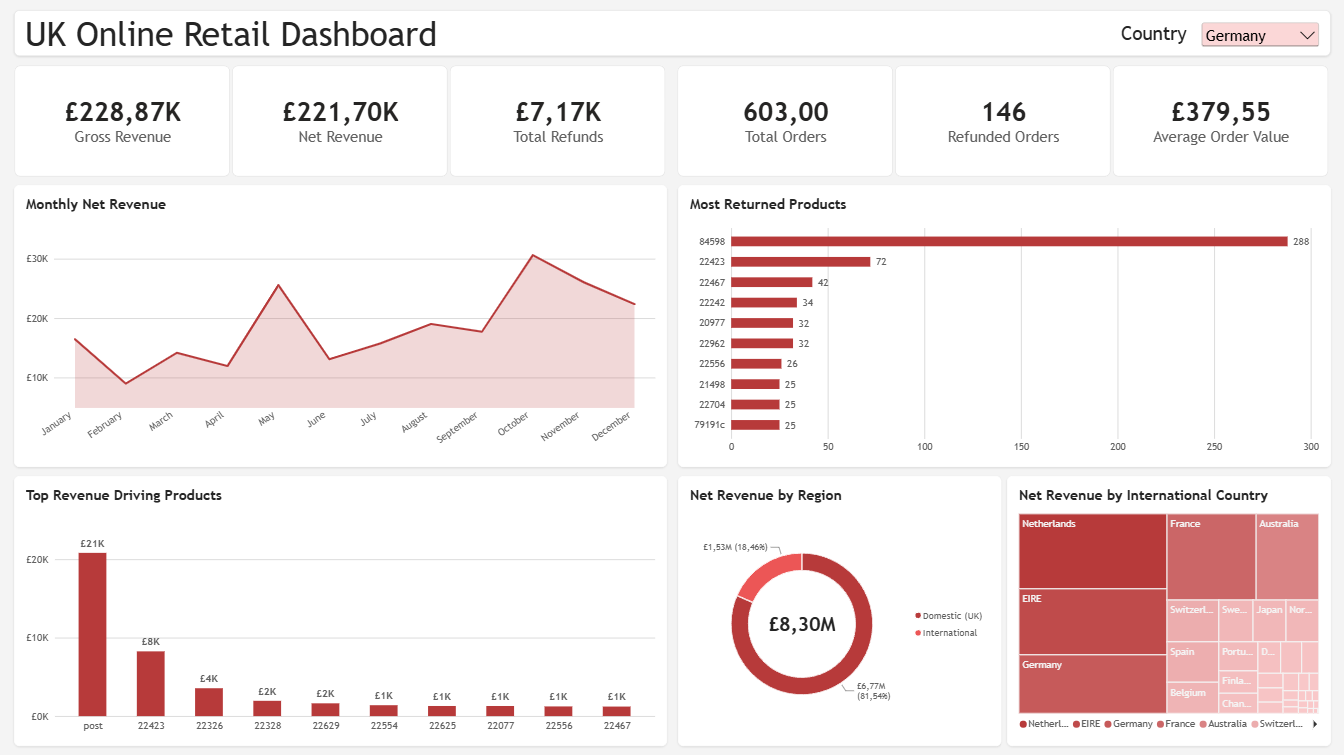

Layout of this report page (visuals, bound fields, positions):
{"tool":"powerbi","page":{"name":"Page 1","canvas":[1920,1080],"ordinal":0},"visuals":[{"type":"textbox","box":[20.4,16,1880.6,65.7],"z":0},{"type":"slicer","fields":{"Values":["Dim_Customer.Country"]},"box":[1711.8,27.9,178.2,53.2],"z":1000},{"type":"textbox","box":[1530.9,27.9,163.6,53.2],"z":2000},{"type":"cardVisual","fields":{"Data":["_Measures.Gross Revenue","_Measures.Net Revenue","_Measures.Total Refunds"]},"box":[20,94.2,932.5,160.8],"z":3000},{"type":"lineChart","title":"Monthly Net Revenue","fields":{"Category":["Fact_Sales.InvoiceDate.Variation.Date Hierarchy.Month","Fact_Sales.InvoiceDate.Variation.Date Hierarchy.Day"],"Y":["Sum(Fact_Sales.Total)"]},"box":[20,265,932.5,402.5],"z":4000},{"type":"columnChart","title":"Top Revenue Driving Products","fields":{"Category":["Dim_Product.StockCode"],"Y":["Sum(Fact_Sales.Total)"]},"box":[20,681,933,386],"z":5000},{"type":"cardVisual","fields":{"Data":["Count(Fact_Sales.InvoiceNo)","_Measures.Refunded Orders","_Measures.Average Order Value"]},"box":[967.5,94.2,933.3,160.8],"z":6000},{"type":"clusteredBarChart","title":"Most Returned Products","fields":{"Category":["Dim_Product.StockCode"],"Y":["_Measures.Returned Products"]},"box":[968,265,933,403],"z":7000},{"type":"donutChart","title":"Net Revenue by Region","fields":{"Category":["Dim_Customer.Market Region"],"Y":["_Measures.Net Revenue"]},"box":[968.5,681,462,385.5],"z":8000},{"type":"treemap","title":"Net Revenue by International Country","fields":{"Group":["Dim_Customer.Country"],"Values":["_Measures.Net Revenue"]},"box":[1438.5,681,462.5,386],"z":9000}]}

Visuals, with their boxes in screenshot pixels (x1, y1, x2, y2), scaled from the page's 1920x1080 canvas onto the 1344x755 screenshot:
textbox: (14,11,1331,57)
slicer - Dim_Customer.Country: (1198,20,1323,57)
textbox: (1072,20,1186,57)
cardVisual - _Measures.Gross Revenue x _Measures.Net Revenue: (14,66,667,178)
"Monthly Net Revenue" lineChart: (14,185,667,467)
"Top Revenue Driving Products" columnChart: (14,476,667,746)
cardVisual - Count(Fact_Sales.InvoiceNo) x _Measures.Refunded Orders: (677,66,1331,178)
"Most Returned Products" clusteredBarChart: (678,185,1331,467)
"Net Revenue by Region" donutChart: (678,476,1001,746)
"Net Revenue by International Country" treemap: (1007,476,1331,746)
